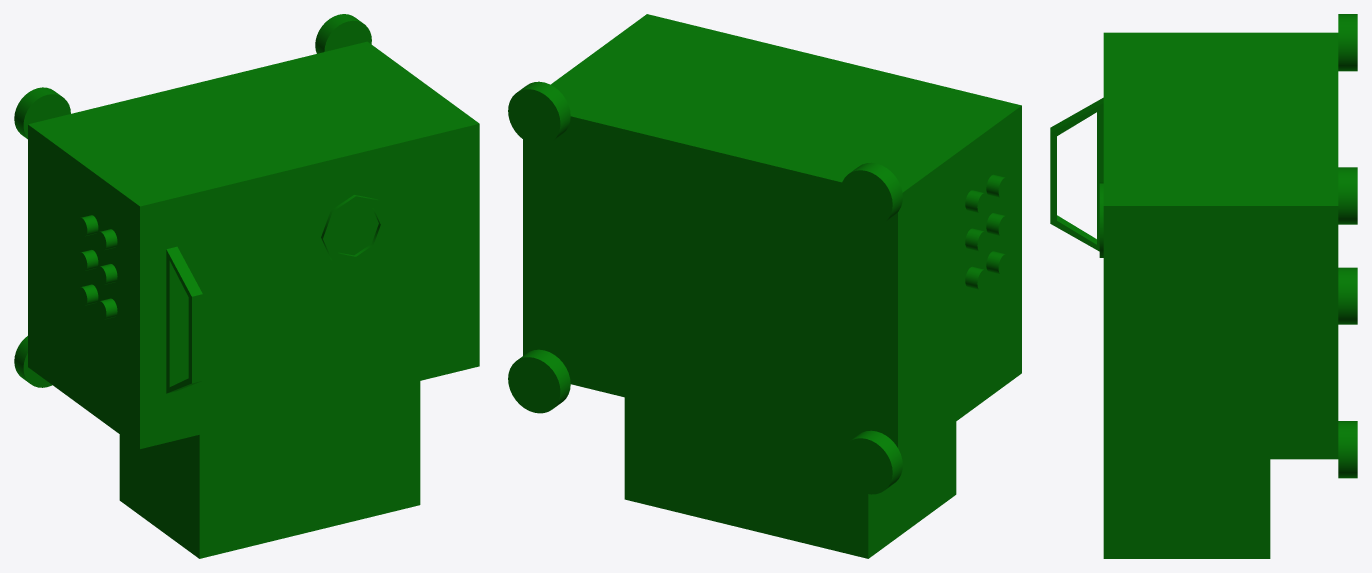
The model's file is Image-1710907574621-2280296595744_13-JB57.fbx.
The picture shows the model from 3 angles, left to right: view 1: azimuth 30°, elevation 25°; view 2: azimuth 150°, elevation 25°; view 3: azimuth 270°, elevation 25°; orthographic projection. The views are drawn at different scales.
Parts seen in each view (by area): view 1: BOX 1 of SUBEQUIPMENT /13-JB57/PRIM, BOX 2 of SUBEQUIPMENT /13-JB57/PRIM, PYRAMID 1 of SUBEQUIPMENT /13-JB57/PRIM, CYLINDER 5 of SUBEQUIPMENT /13-JB57/PRIM, CYLINDER 2 of SUBEQUIPMENT /13-JB57/PRIM, CYLINDER 1 of SUBEQUIPMENT /13-JB57/PRIM, CYLINDER 3 of SUBEQUIPMENT /13-JB57/PRIM; view 2: BOX 1 of SUBEQUIPMENT /13-JB57/PRIM, BOX 2 of SUBEQUIPMENT /13-JB57/PRIM, CYLINDER 1 of SUBEQUIPMENT /13-JB57/PRIM, CYLINDER 4 of SUBEQUIPMENT /13-JB57/PRIM, CYLINDER 3 of SUBEQUIPMENT /13-JB57/PRIM, CYLINDER 2 of SUBEQUIPMENT /13-JB57/PRIM; view 3: BOX 1 of SUBEQUIPMENT /13-JB57/PRIM, BOX 2 of SUBEQUIPMENT /13-JB57/PRIM, PYRAMID 1 of SUBEQUIPMENT /13-JB57/PRIM, CYLINDER 1 of SUBEQUIPMENT /13-JB57/PRIM, CYLINDER 2 of SUBEQUIPMENT /13-JB57/PRIM, CYLINDER 3 of SUBEQUIPMENT /13-JB57/PRIM, CYLINDER 4 of SUBEQUIPMENT /13-JB57/PRIM.
Boxes of the visible parts, x1,y1,x2,y2 form: BOX 1 of SUBEQUIPMENT /13-JB57/PRIM: (28, 41, 479, 448); BOX 2 of SUBEQUIPMENT /13-JB57/PRIM: (119, 381, 420, 558); PYRAMID 1 of SUBEQUIPMENT /13-JB57/PRIM: (166, 246, 202, 393); CYLINDER 5 of SUBEQUIPMENT /13-JB57/PRIM: (321, 195, 388, 265); CYLINDER 2 of SUBEQUIPMENT /13-JB57/PRIM: (14, 87, 70, 139); CYLINDER 1 of SUBEQUIPMENT /13-JB57/PRIM: (315, 14, 371, 53); CYLINDER 3 of SUBEQUIPMENT /13-JB57/PRIM: (14, 336, 52, 387); BOX 1 of SUBEQUIPMENT /13-JB57/PRIM: (523, 14, 1021, 460); BOX 2 of SUBEQUIPMENT /13-JB57/PRIM: (624, 397, 956, 558); CYLINDER 1 of SUBEQUIPMENT /13-JB57/PRIM: (508, 81, 570, 145); CYLINDER 4 of SUBEQUIPMENT /13-JB57/PRIM: (508, 349, 570, 413); CYLINDER 3 of SUBEQUIPMENT /13-JB57/PRIM: (840, 430, 902, 494); CYLINDER 2 of SUBEQUIPMENT /13-JB57/PRIM: (840, 162, 902, 226); BOX 1 of SUBEQUIPMENT /13-JB57/PRIM: (1103, 32, 1338, 459); BOX 2 of SUBEQUIPMENT /13-JB57/PRIM: (1103, 459, 1270, 558); PYRAMID 1 of SUBEQUIPMENT /13-JB57/PRIM: (1050, 97, 1103, 251); CYLINDER 1 of SUBEQUIPMENT /13-JB57/PRIM: (1338, 167, 1357, 224); CYLINDER 2 of SUBEQUIPMENT /13-JB57/PRIM: (1338, 14, 1357, 71); CYLINDER 3 of SUBEQUIPMENT /13-JB57/PRIM: (1338, 267, 1357, 324); CYLINDER 4 of SUBEQUIPMENT /13-JB57/PRIM: (1338, 421, 1357, 478).
Size of the model in its own units: 0.643 by 0.461 by 0.678.
